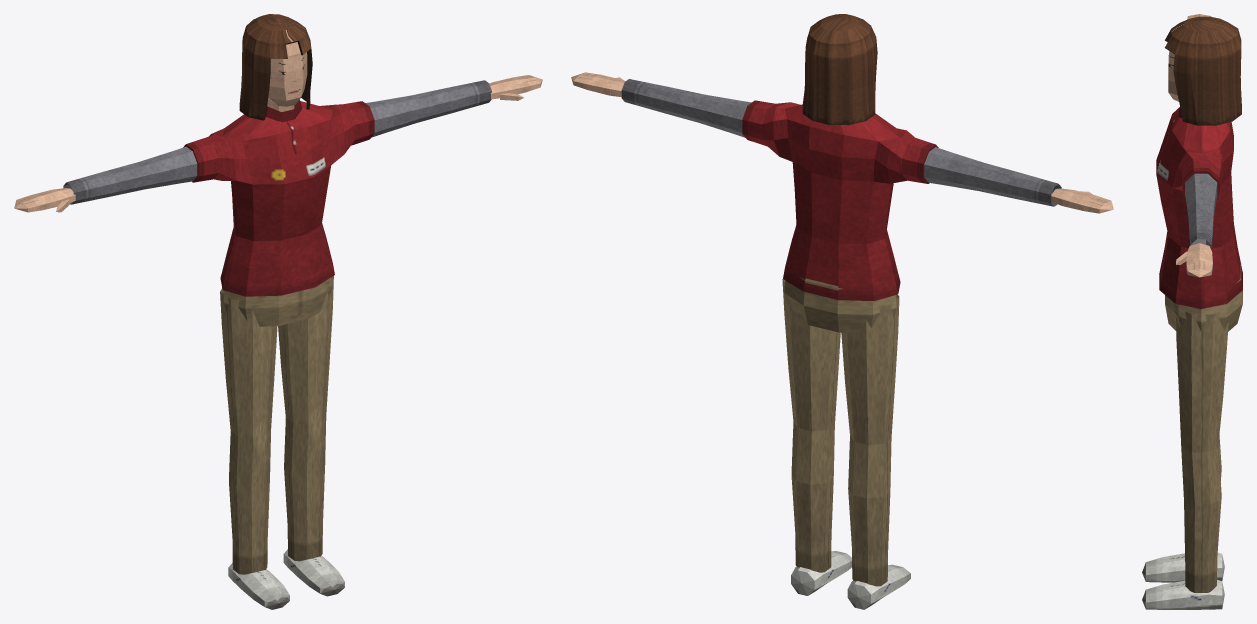
Rendered from Cassy_fuer_Mixamo.fbx.
The picture shows the model from 3 angles, left to right: view 1: azimuth 30°, elevation 25°; view 2: azimuth 150°, elevation 25°; view 3: azimuth 270°, elevation 25°; orthographic projection. The views are drawn at different scales.
Visible parts, largest first — view 1: Cassy_Mesh; view 2: Cassy_Mesh; view 3: Cassy_Mesh.
Part boxes in pixels (bbox=[...]): Cassy_Mesh: bbox=[14, 14, 542, 609]; Cassy_Mesh: bbox=[571, 14, 1113, 609]; Cassy_Mesh: bbox=[1142, 14, 1242, 609].
Size of the model in its own units: 1.63 by 1.66 by 0.2644.
1 material, 1 textured.
